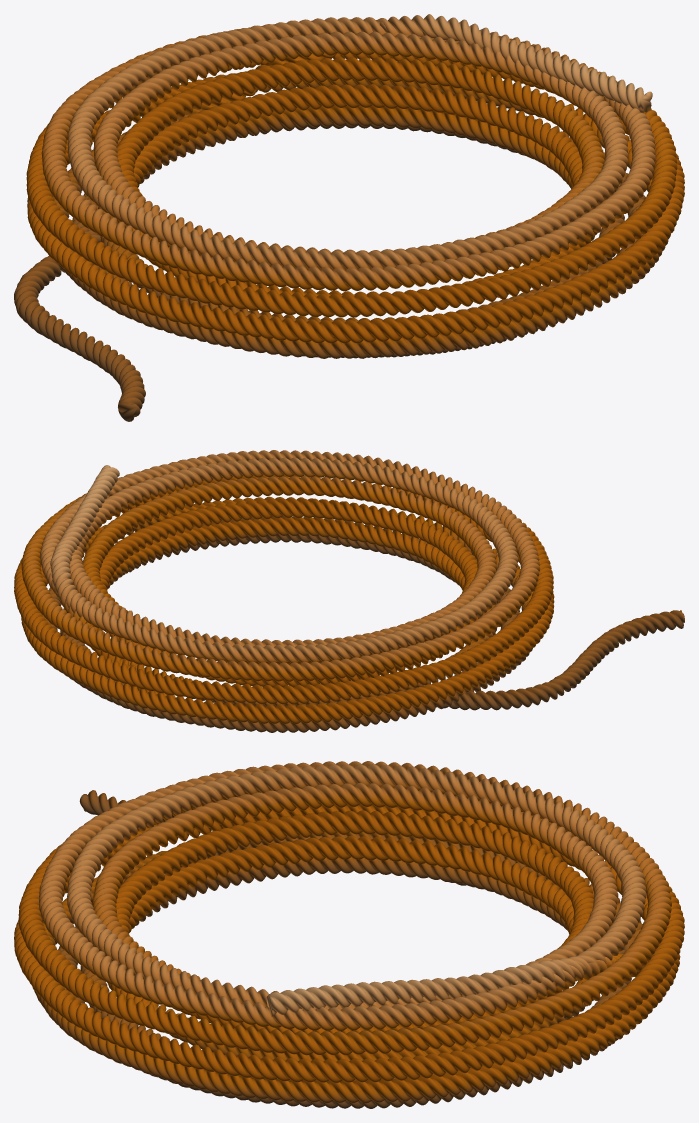
File: SM_Prop_Rope.fbx
The picture shows the model from 3 angles, top to bottom: view 1: azimuth 30°, elevation 25°; view 2: azimuth 150°, elevation 25°; view 3: azimuth 270°, elevation 25°; orthographic projection. The views are drawn at different scales.
Parts seen in each view (by area): view 1: SM_Prop_Rope; view 2: SM_Prop_Rope; view 3: SM_Prop_Rope.
Boxes of the visible parts, x1,y1,x2,y2 form: SM_Prop_Rope: (14, 14, 684, 421); SM_Prop_Rope: (14, 450, 684, 732); SM_Prop_Rope: (14, 761, 684, 1108).
Bounding box in the file's own units: 0.4931 × 0.0853 × 0.4365.
